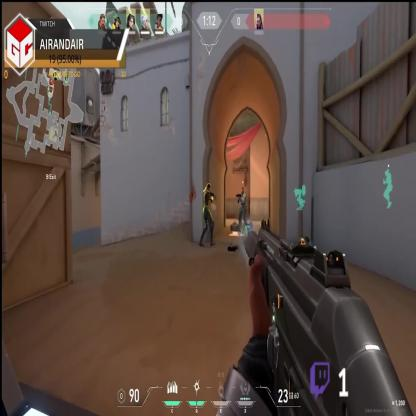enemy: (200, 181, 215, 248)
enemy_head: (206, 183, 210, 191)
